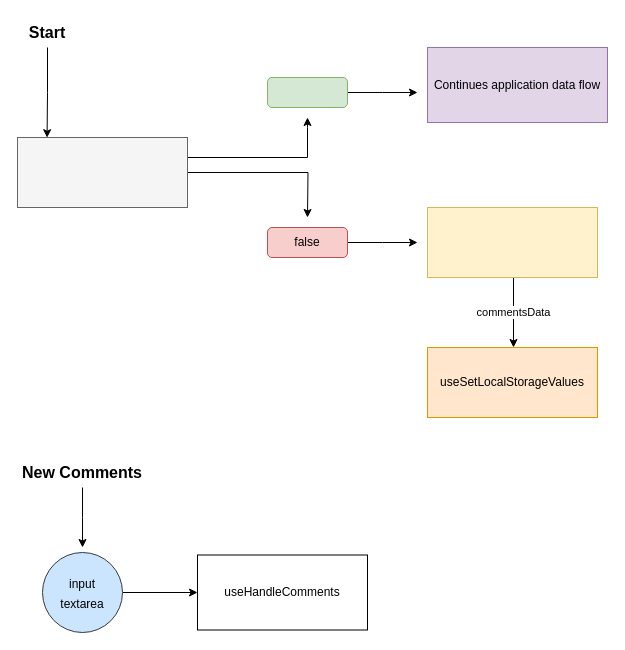
Some shapes in this 625 by 650 pixel diagram are drawn without their labels. Here are the shapes that lost their labels. From the top down, the centre of each, then its label:
pixel 307 92: true
pixel 102 172: useLocalStorageValues
pixel 512 242: useFetch
